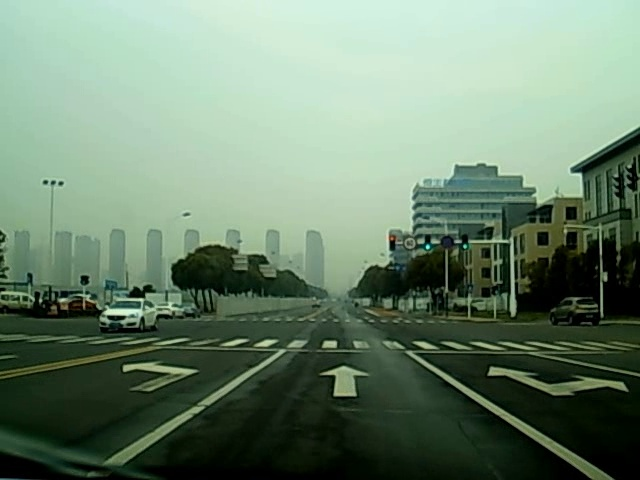Traffic_Light_go: (461, 233, 469, 254), (423, 236, 431, 253)
Traffic_Light_stop: (388, 235, 397, 253)
